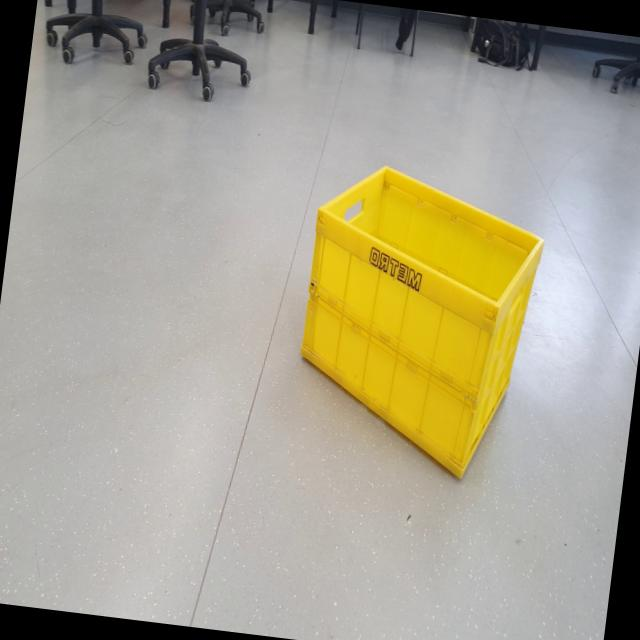box: (282, 150, 553, 500)
